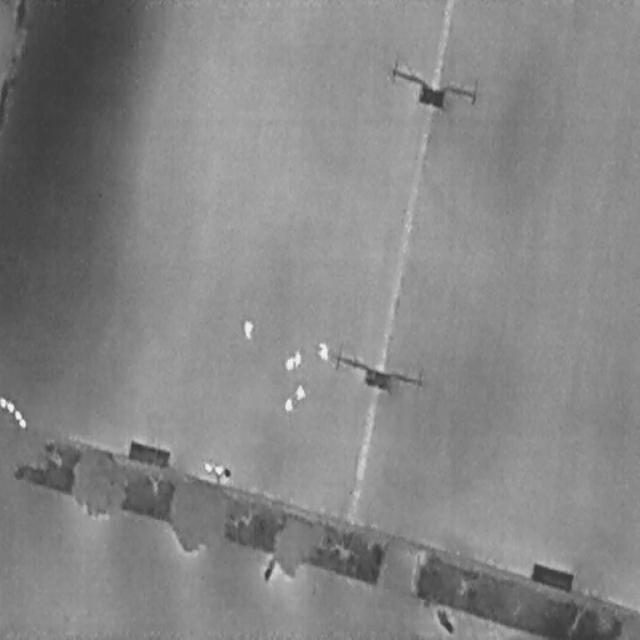Person: (243, 317, 253, 338), (318, 341, 327, 360), (294, 382, 304, 398), (293, 349, 301, 366), (284, 354, 293, 368), (284, 395, 292, 410)
